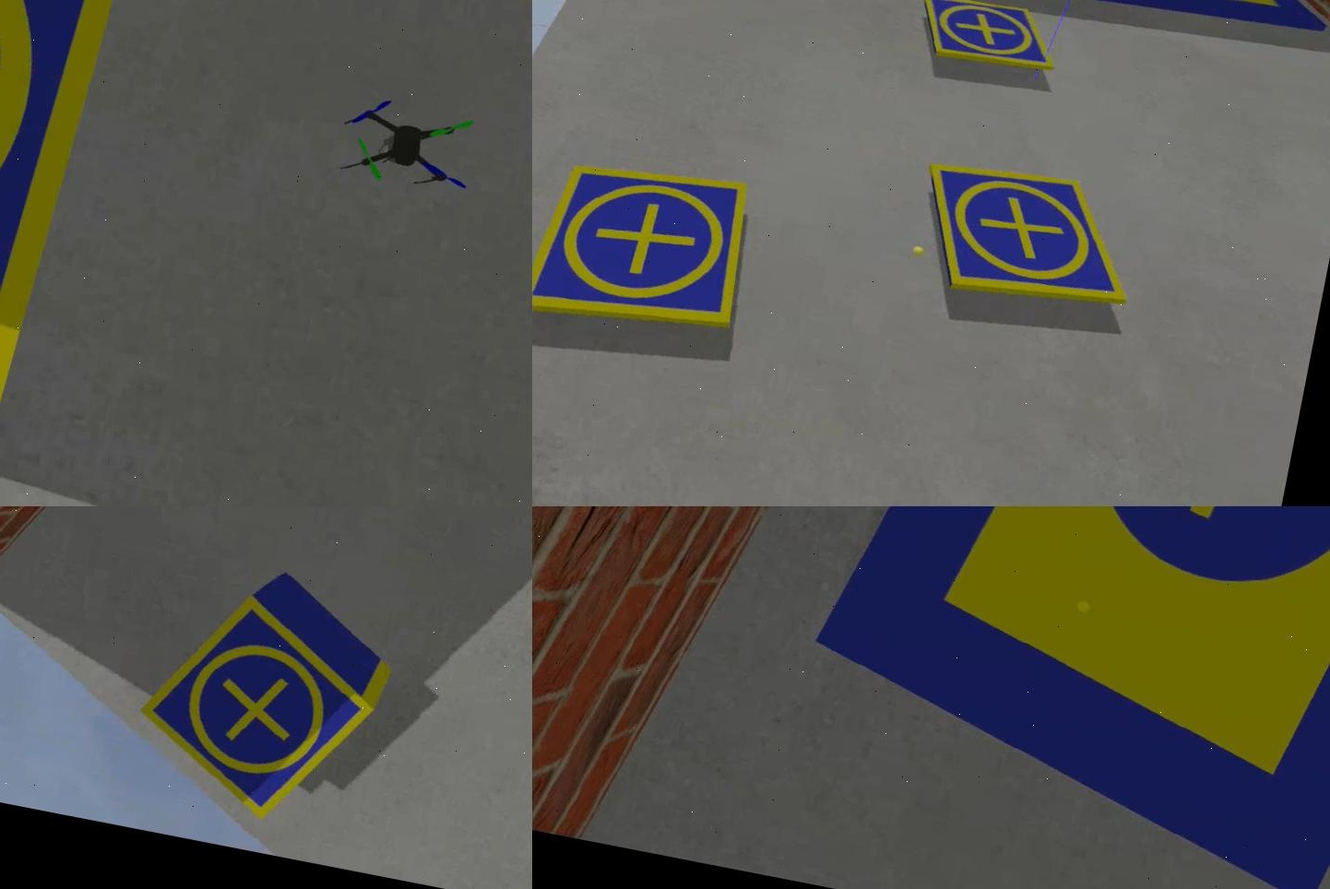large_base: (786, 506, 1328, 889), (998, 1, 1328, 50)
small_base: (0, 1, 157, 433), (127, 584, 383, 834), (531, 142, 759, 350), (907, 150, 1147, 323), (909, 1, 1059, 82)
